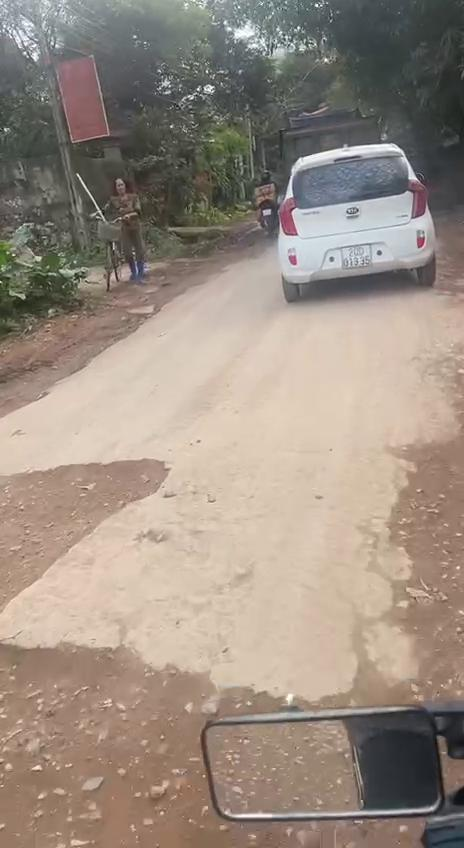pothole: (0, 636, 447, 848), (350, 423, 464, 733), (0, 449, 177, 616)
